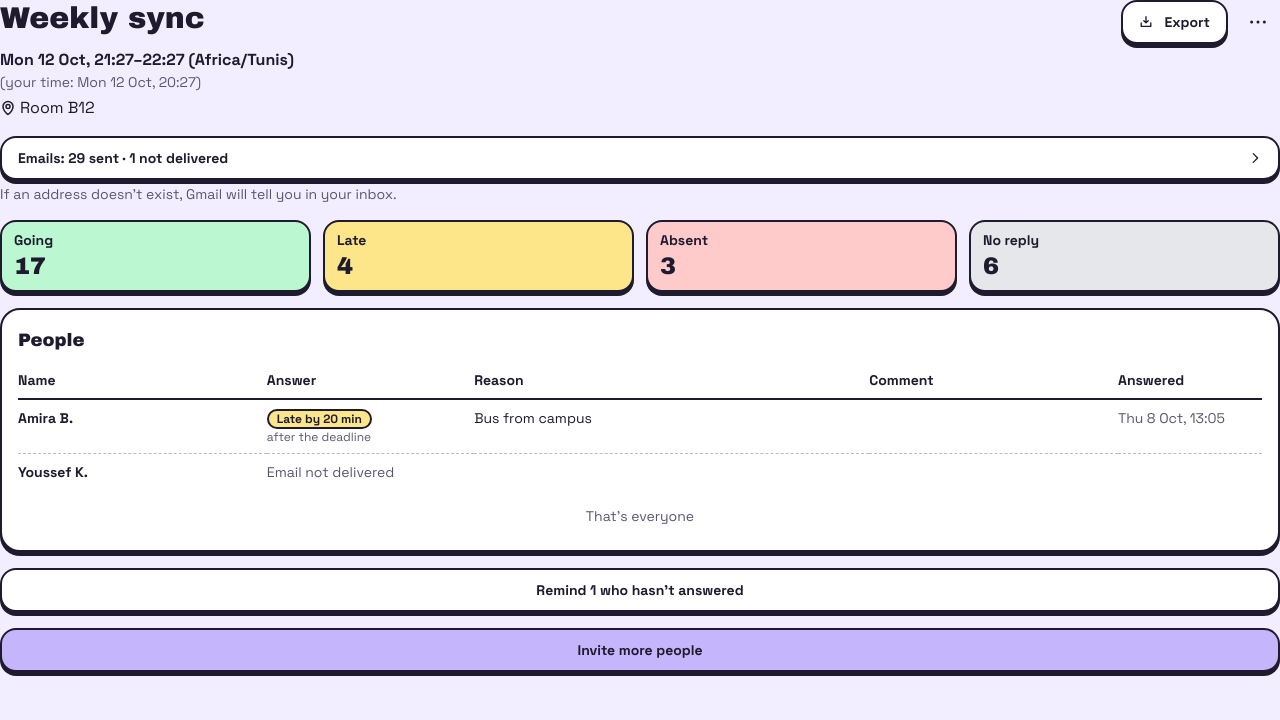
Test: /w/[slug]/meetings/[id] › shows the email line, the tiles and the people once invites are out
Expected: the button "Late 4" is shown, [323,220,634,292]
Expected: the text "Bus from campus" is shown, [474,399,869,454]
Click the button "Emails: 29 sent · 1 not delivered" at (123, 158), box [0,136,1279,180]
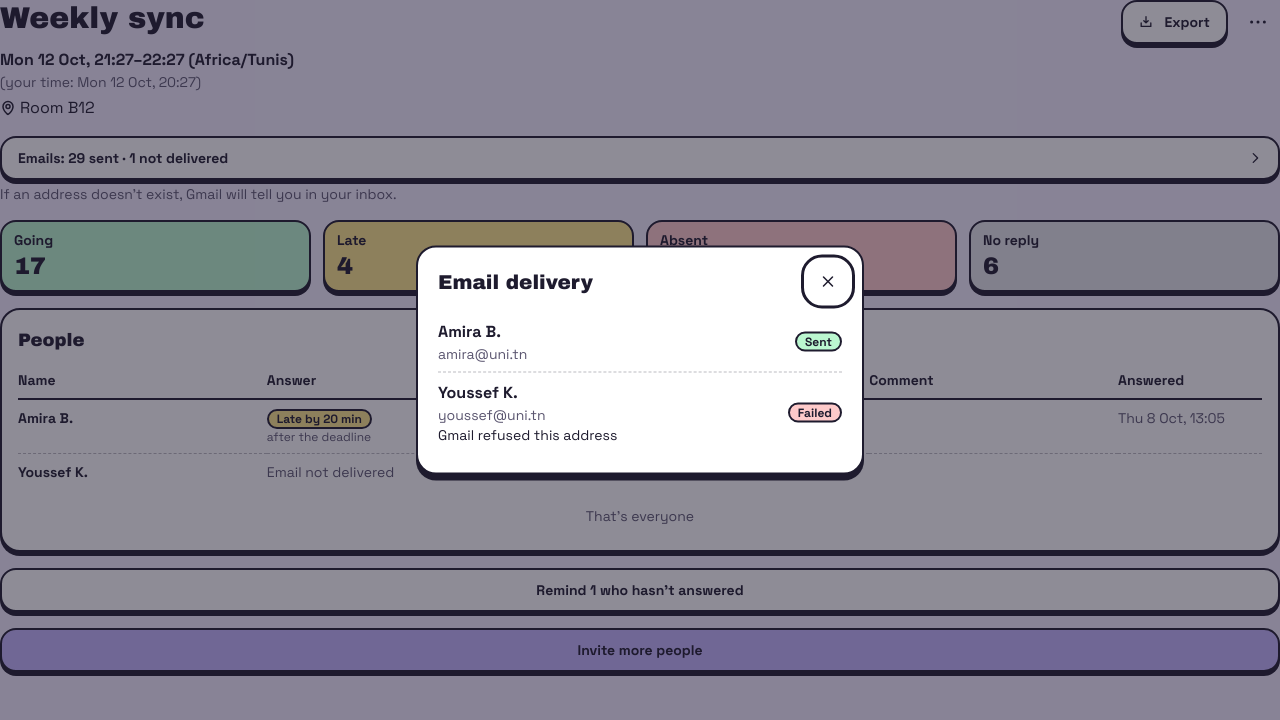
Result: the dialog "Email delivery" is shown at [416,246,864,474]
